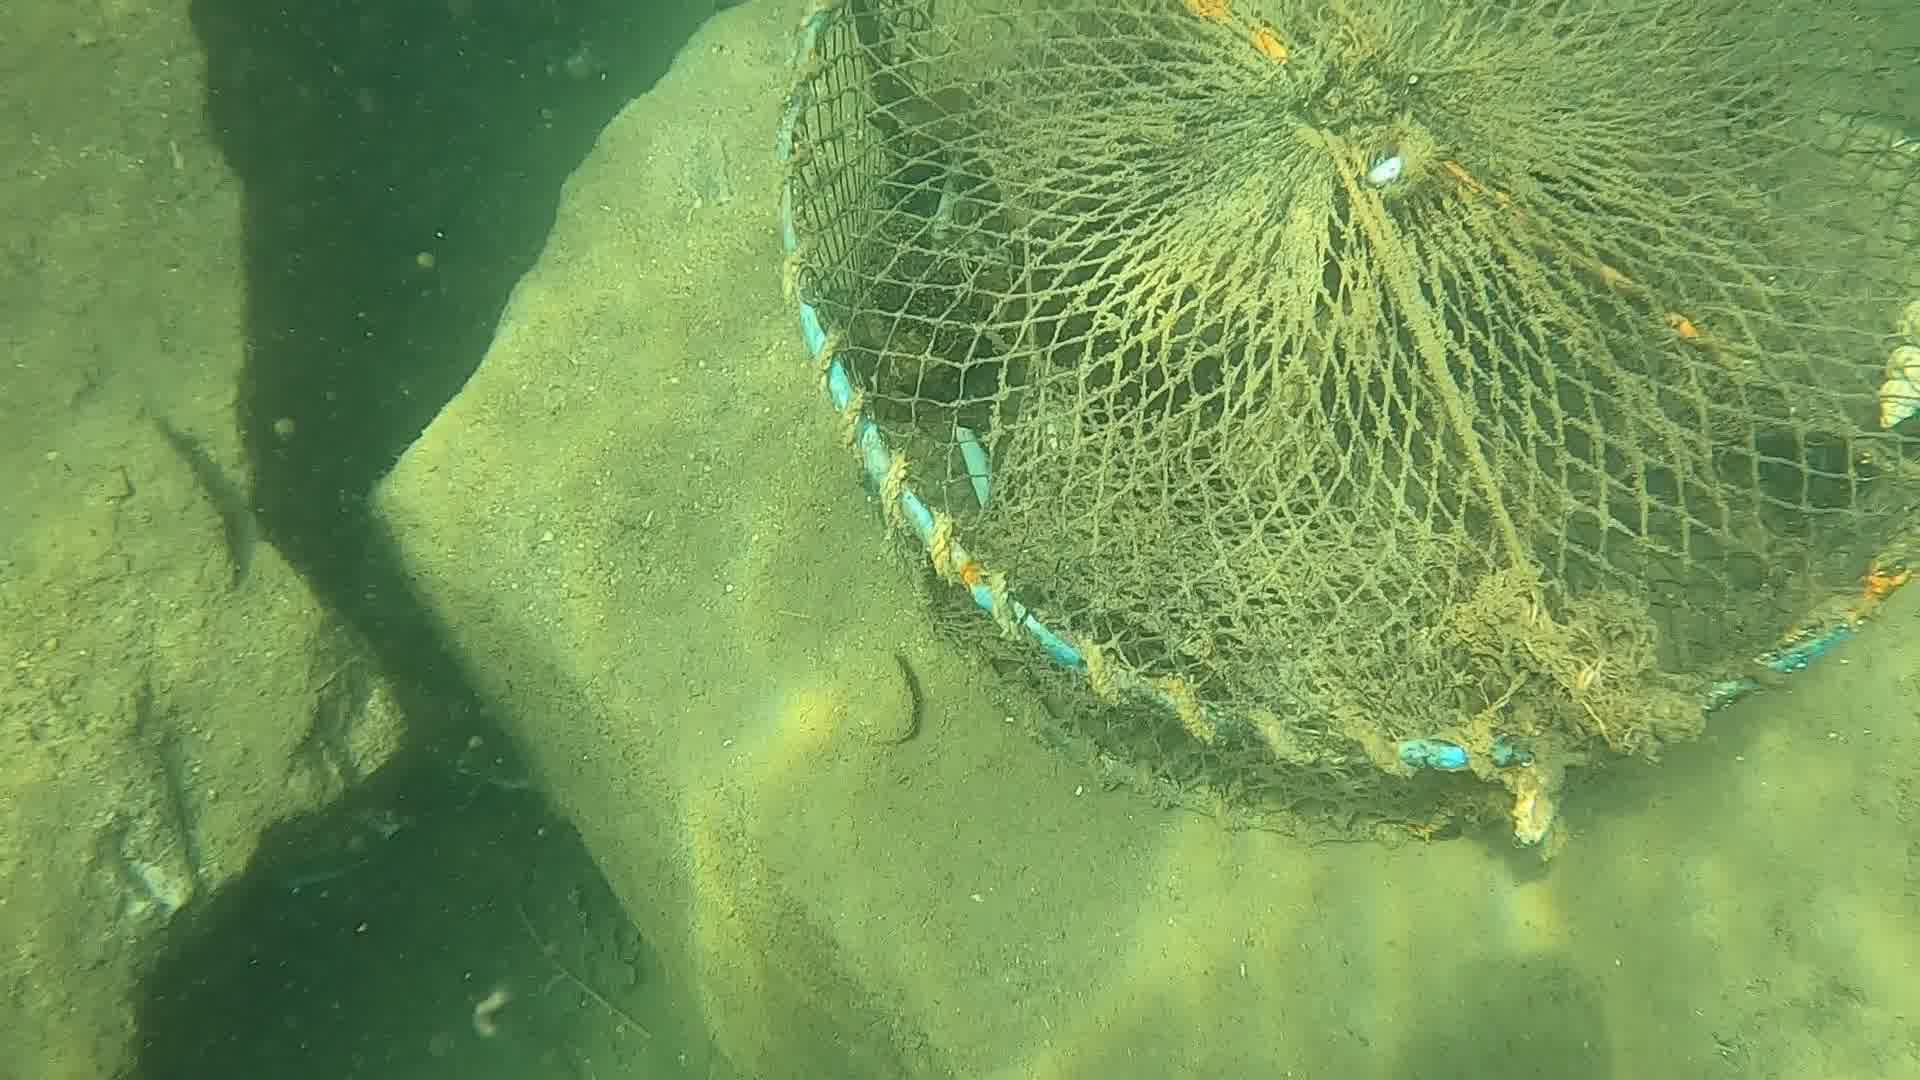circular fish trap: (773, 0, 1920, 844)
